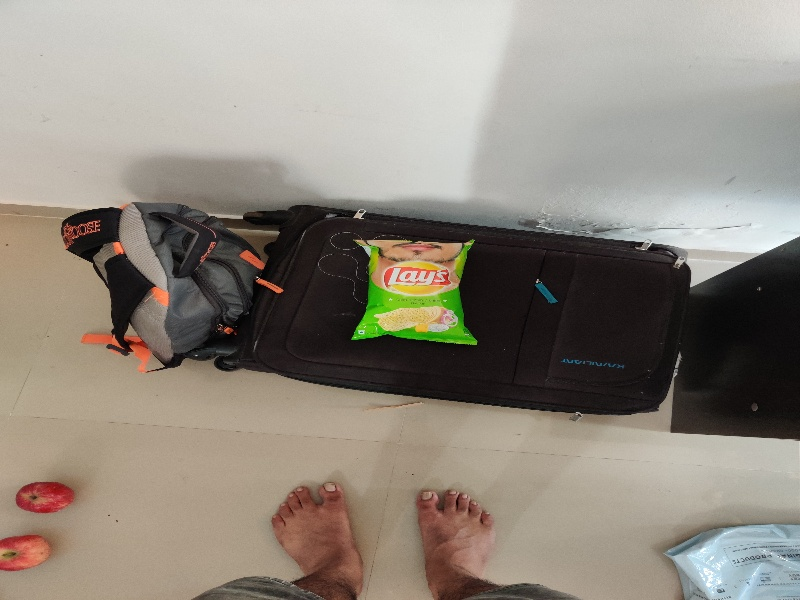lays: (347, 230, 485, 350)
